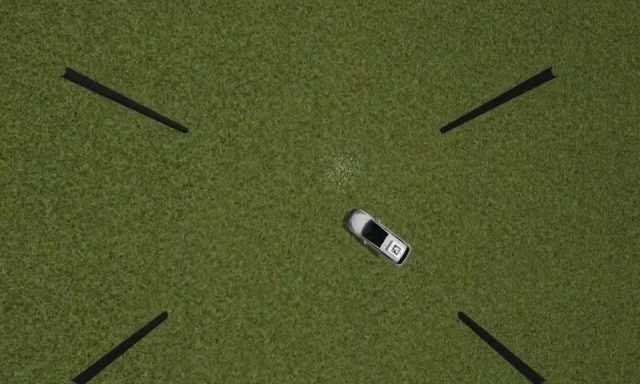Car: (346, 208, 413, 267)
Landing Pad: (388, 242, 405, 258)
